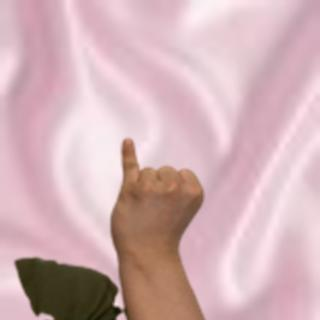FINE: (106, 135, 207, 261)
